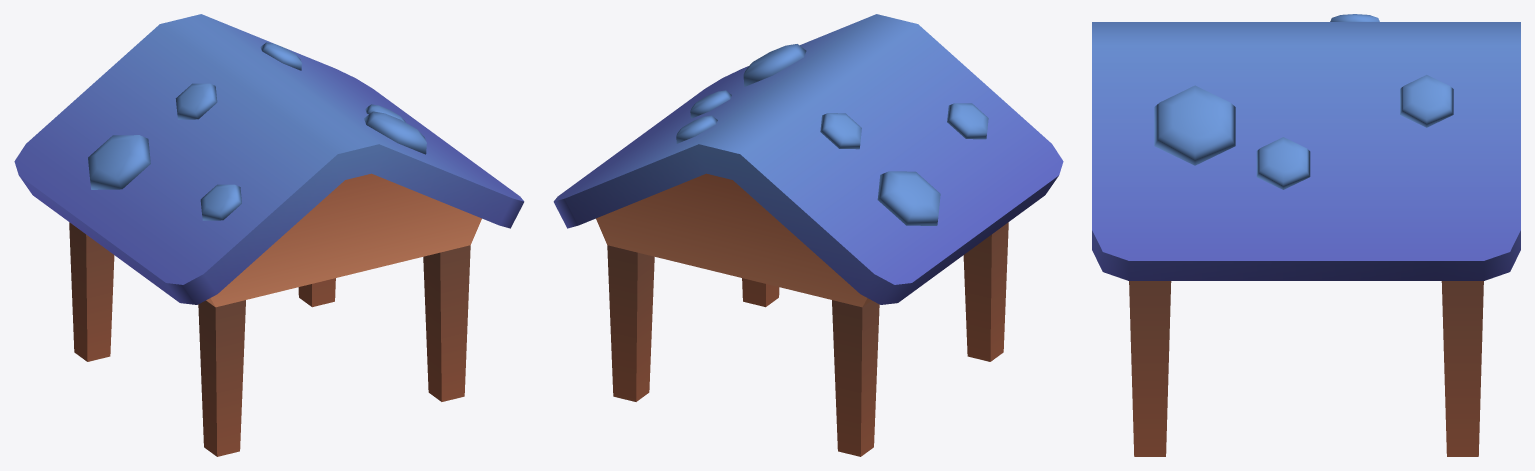
File: forest_building-roof.obj
The picture shows the model from 3 angles, left to right: view 1: azimuth 30°, elevation 25°; view 2: azimuth 150°, elevation 25°; view 3: azimuth 270°, elevation 25°; orthographic projection. The views are drawn at different scales.
Parts seen in each view (by area): view 1: building-roof; view 2: building-roof; view 3: building-roof.
Part boxes in pixels (x1,y1,x2,y2): building-roof: (14,14,524,456); building-roof: (553,14,1063,456); building-roof: (1092,14,1520,456).
Bounding box in the file's own units: 1.34 × 1.05 × 1.17.
Materials: 1 (1 with a texture image).
